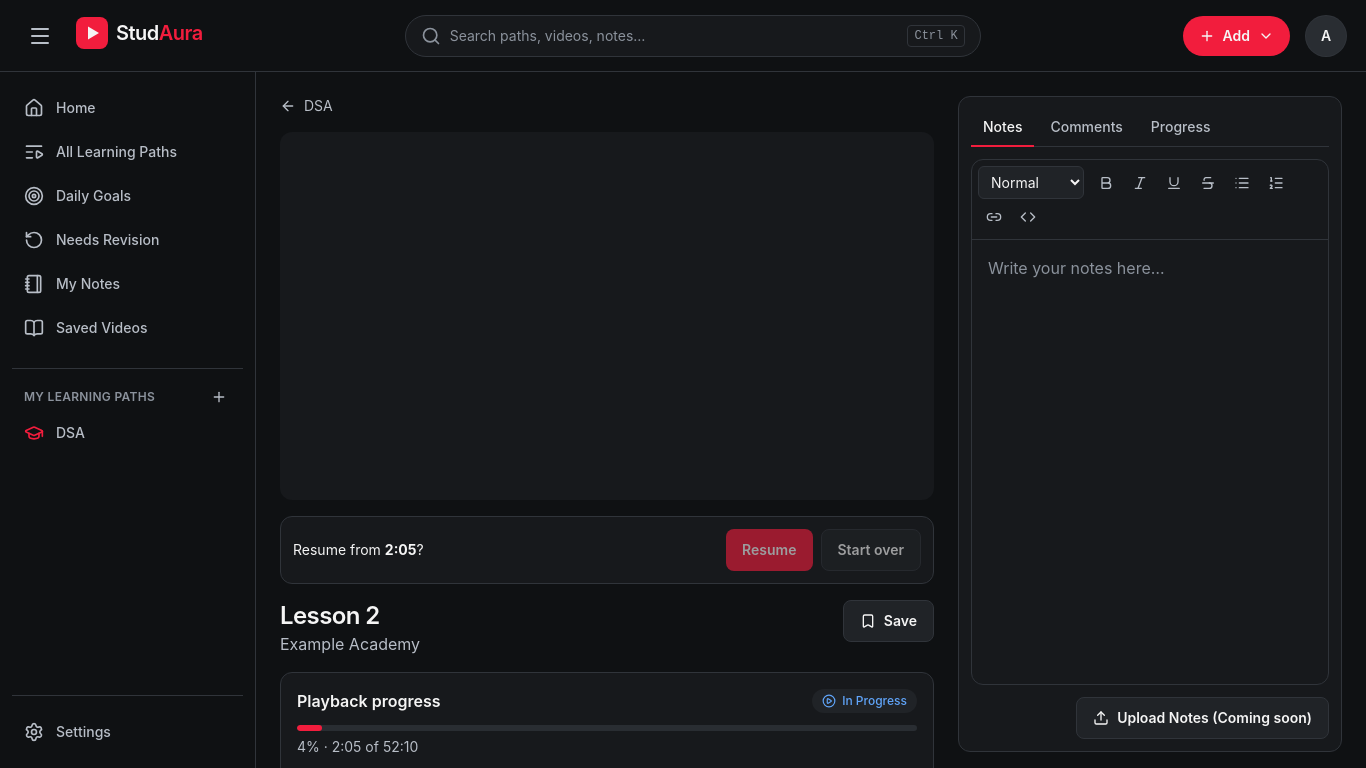
Test: the Progress tab › is a real panel, not a placeholder
Check: the heading "Lesson 2" is shown, box top-left (280, 601), bottom-right (380, 630)
Click the tab "Progress" at (1181, 128), box top-left (1139, 109), bottom-right (1223, 147)
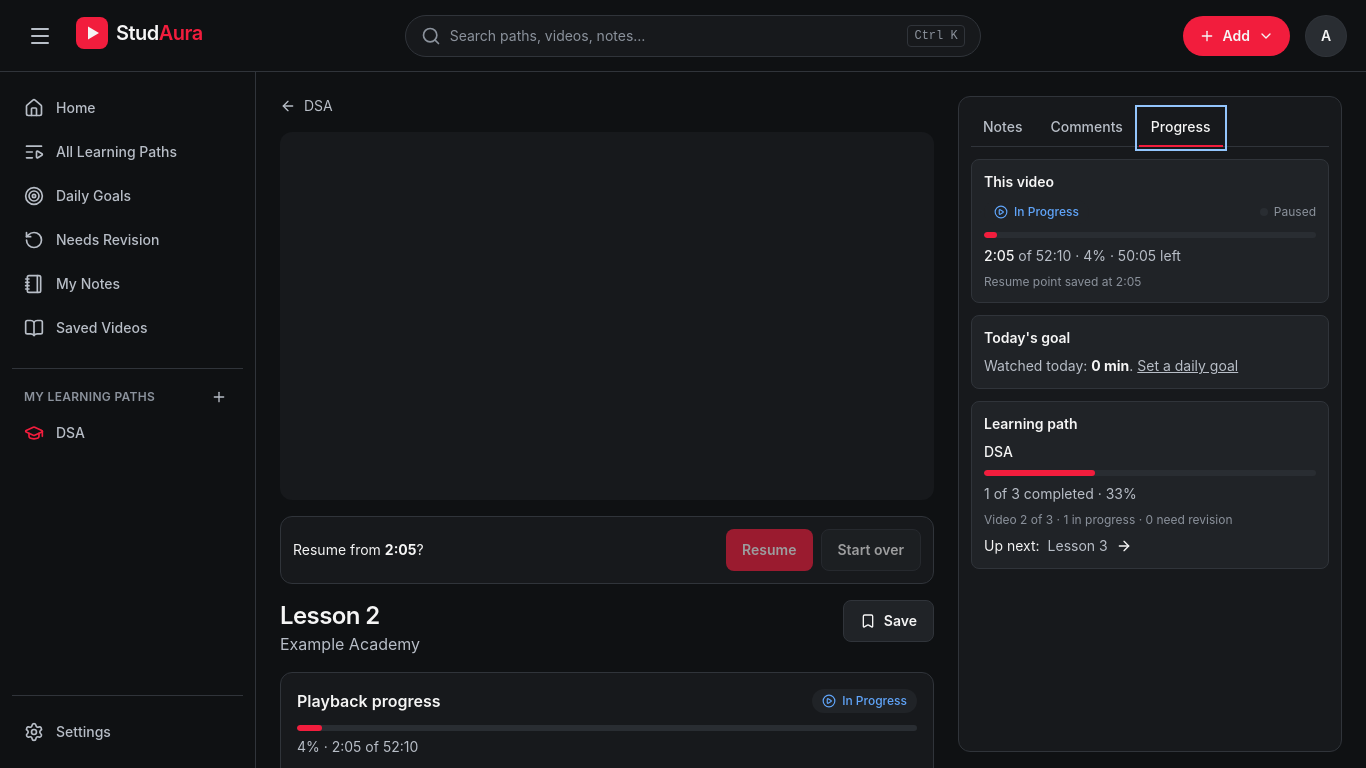
Check: the button "Coming soon" is gone
Check: the element "This video" is shown, box top-left (971, 159), bottom-right (1329, 303)
Check: the element "Today's goal" is shown, box top-left (971, 315), bottom-right (1329, 389)
